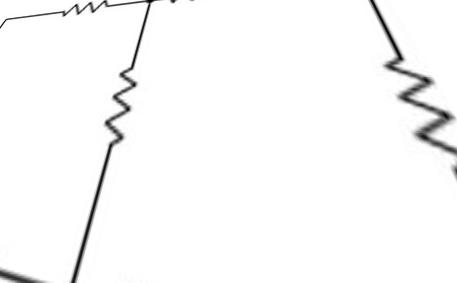resistor: (372, 44, 455, 167), (96, 54, 148, 151), (49, 0, 120, 10)
